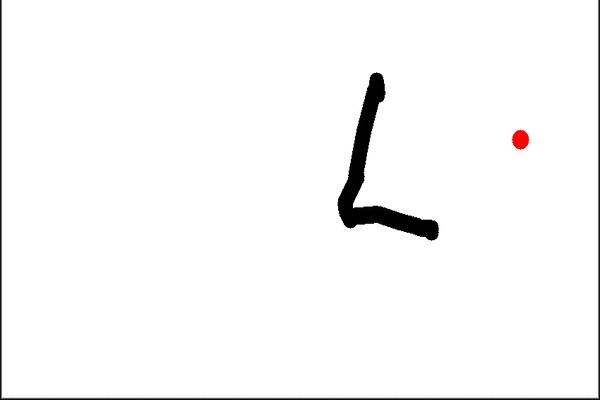L: (332, 66, 448, 249)
